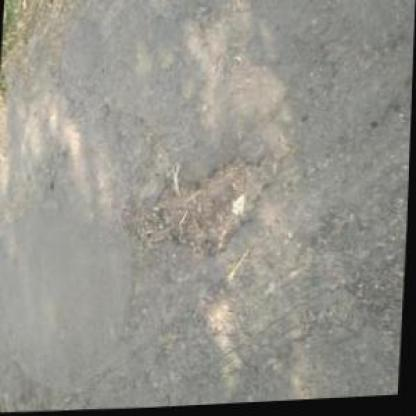pothole: (121, 147, 283, 266)
